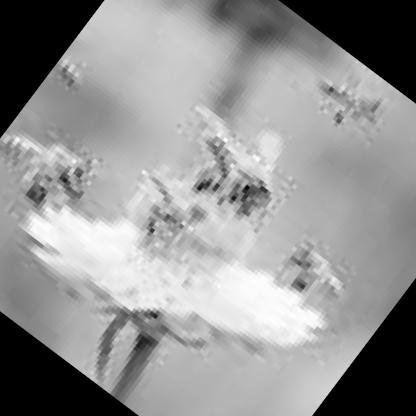other: (156, 91, 311, 244)
